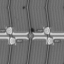dust: (30, 28, 34, 32), (21, 5, 25, 9)
